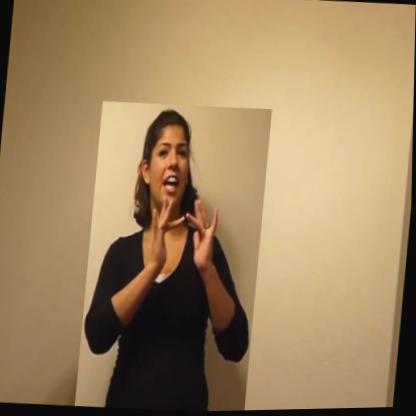Internet: (76, 98, 272, 415)
